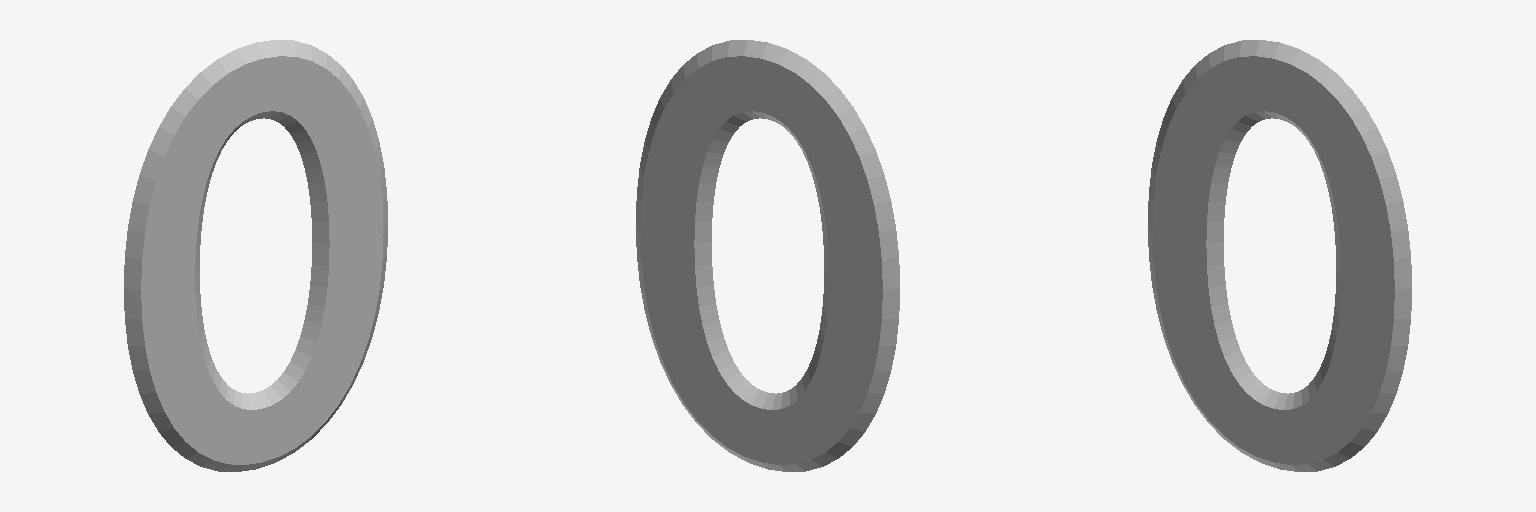
File: zero.obj
The picture shows the model from 3 angles: view 1: azimuth 30°, elevation 25°; view 2: azimuth 150°, elevation 25°; view 3: azimuth 330°, elevation 25°; orthographic projection.
Visible parts, largest first — view 1: Text; view 2: Text; view 3: Text.
Part boxes in pixels (x1,y1,x2,y2): Text: (124, 40, 387, 471); Text: (636, 40, 899, 471); Text: (1148, 40, 1411, 471).
Size of the model in its own units: 0.048 by 0.074 by 0.004.